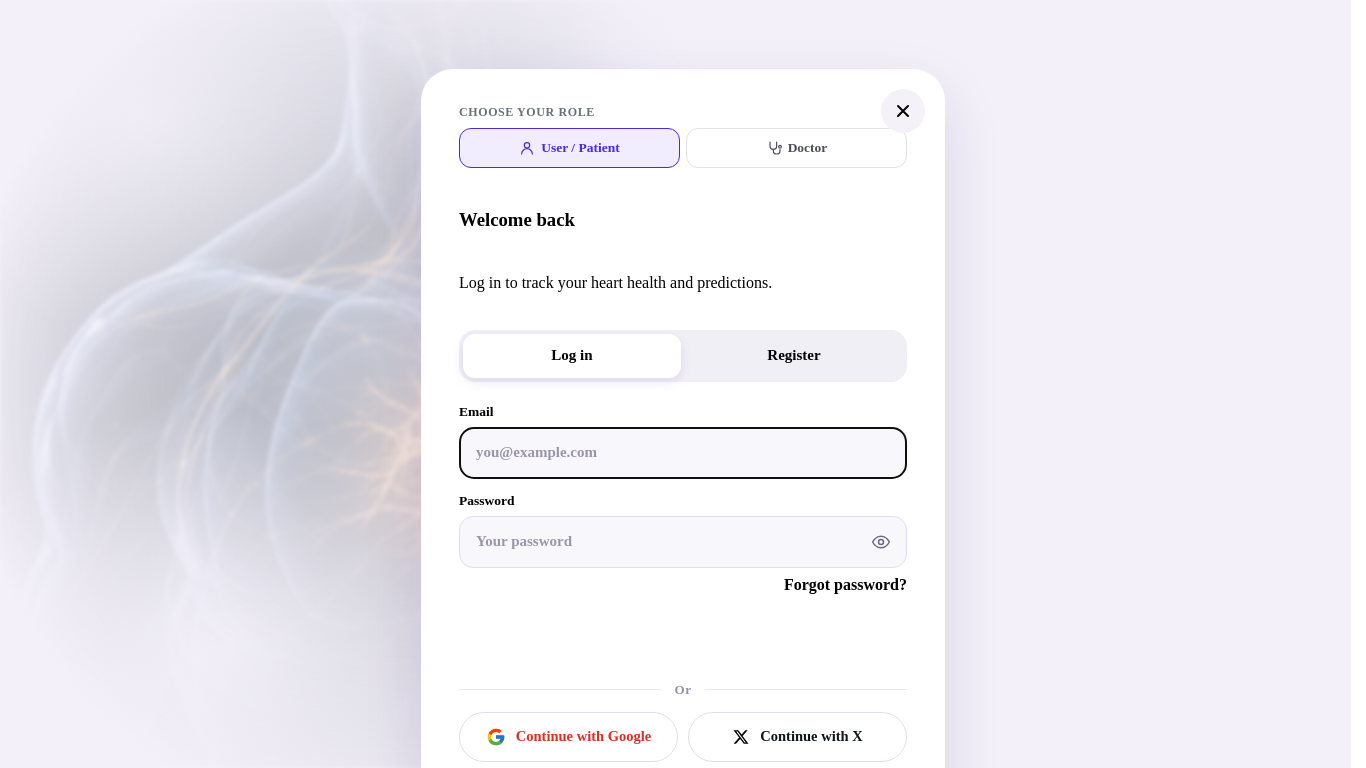
Test: Login dialog (QA L8) › offers Continue with Google / X for configured providers and starts that sign-in
The width and height of the screenshot is (1366, 768).
Expected: the button "Continue with X" is shown, [688,712,907,762]
Click the button "Continue with Google" at (568, 736), box [459,712,678,762]
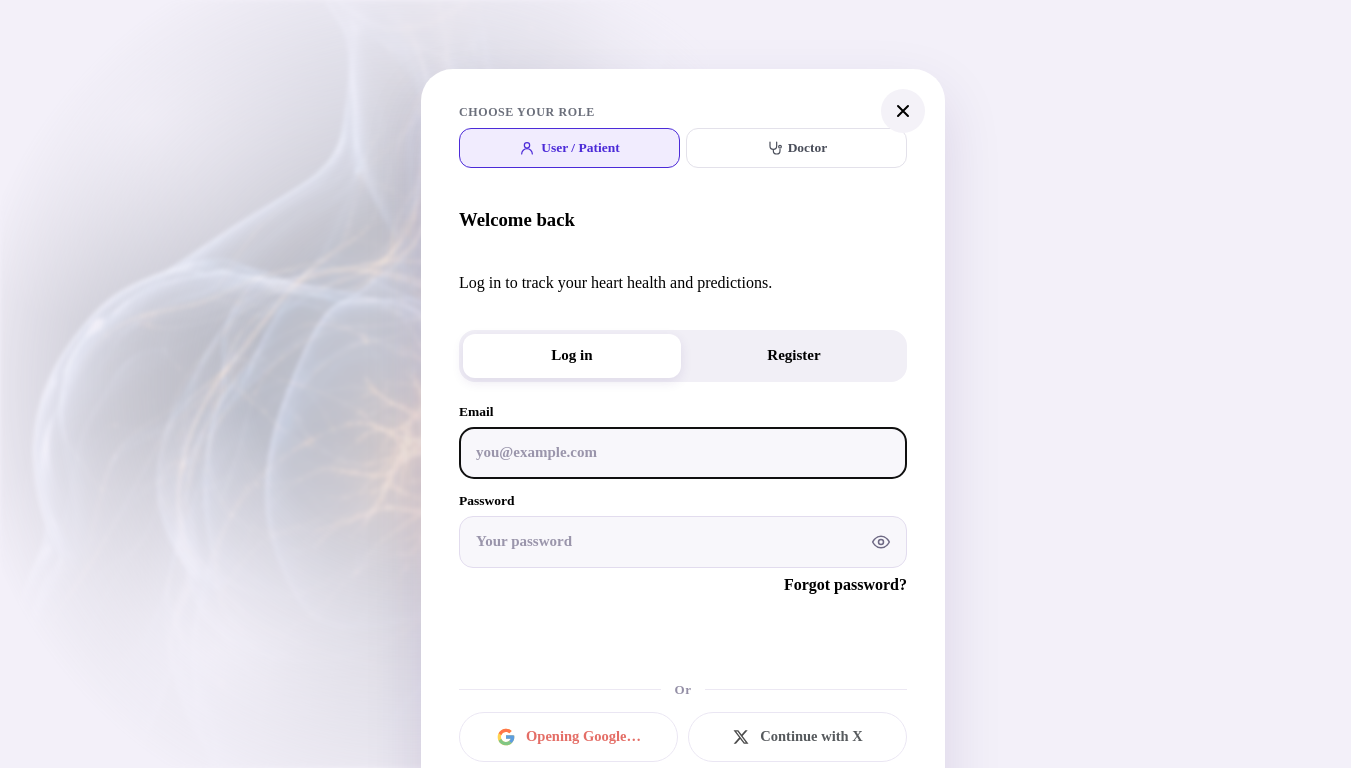
Now the button "Opening Google…" is disabled, box [459,712,678,762]
